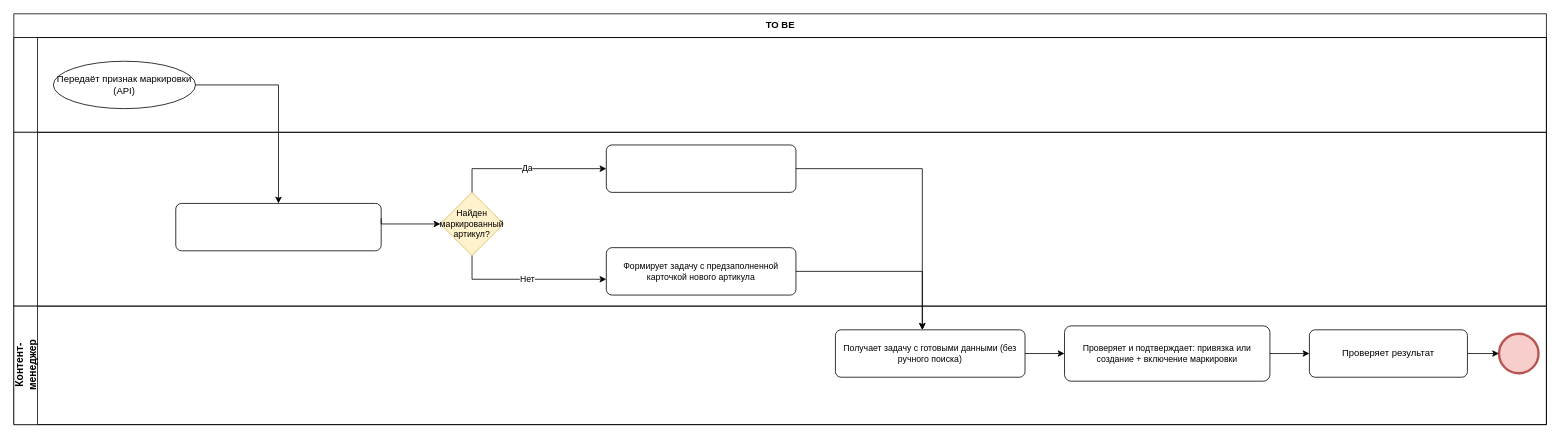
The diagram is 1560 pixels wide and 438 high, and some of its shapes have lost their labels. The box of each missing label's shape, as (x1, y1, x2, y2) in pixels:
Поставщик: (13, 37, 1546, 132)
Разрывает связь и автоматически ищет маркированный артикул на эту модель: (175, 203, 381, 251)
Система B2B: (13, 132, 1546, 306)
Формирует задачу: привязать к найденному артикулу: (606, 144, 796, 192)
